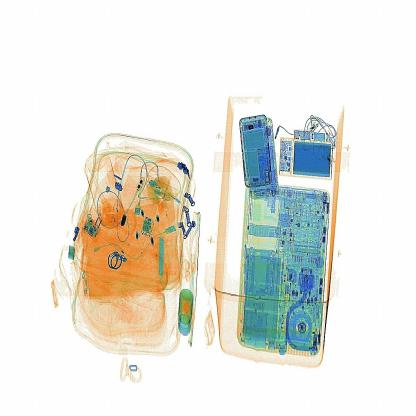pliers: (150, 231, 174, 303)
